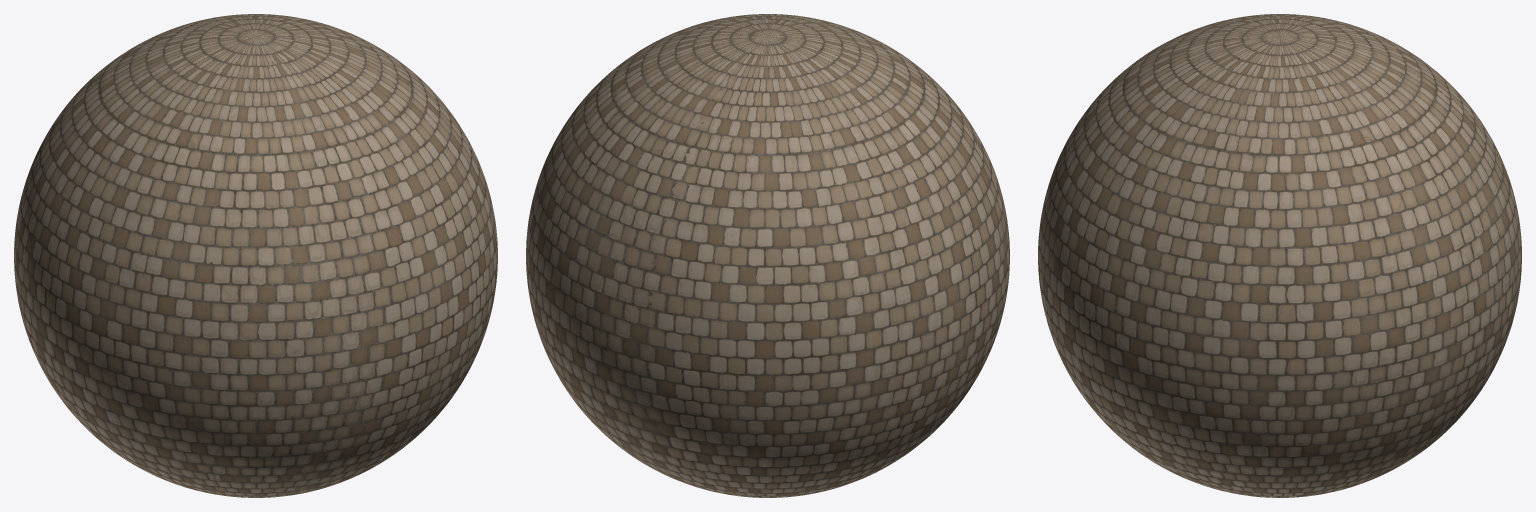
File: rounded_square_tiled_wall_2k.gltf
3 views of the same model, side by side, from view 1: azimuth 30°, elevation 25°; view 2: azimuth 150°, elevation 25°; view 3: azimuth 270°, elevation 25° (orthographic).
Visible parts, largest first — view 1: sphere_gltf; view 2: sphere_gltf; view 3: sphere_gltf.
Part boxes in pixels (x1,y1,x2,y2): sphere_gltf: (14, 14, 497, 497); sphere_gltf: (526, 14, 1009, 497); sphere_gltf: (1038, 14, 1521, 497).
Bounding box in the file's own units: 2 × 2 × 2.
Materials: 1 (1 with a texture image).
